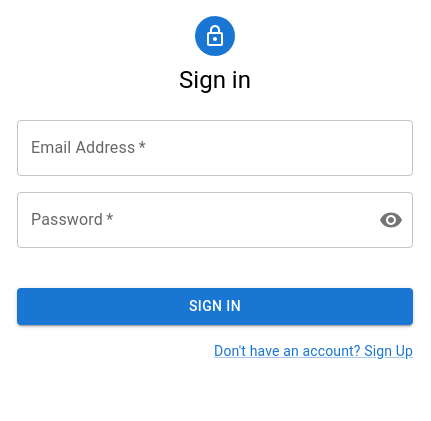
Test case: <SignIn /> › Form validation › When submitting invalid email › Email is validated & error message is rendered
Type "invalidEmail" into the field labelled "Email Address *" at (215, 148), box [17,120,413,176]
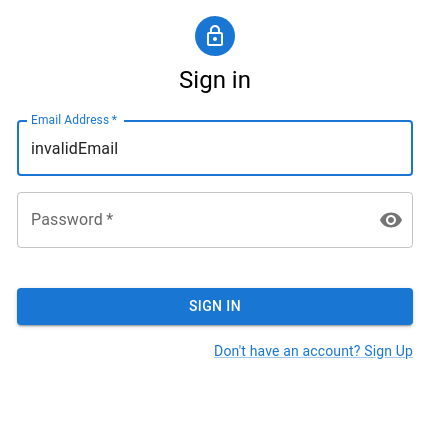
Click the button "Sign In" at (215, 306), box [17,288,413,324]
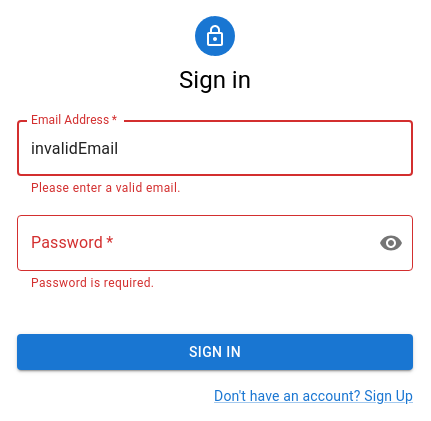
Check: the text "Please enter a valid email." is shown, box [31,181,181,195]
